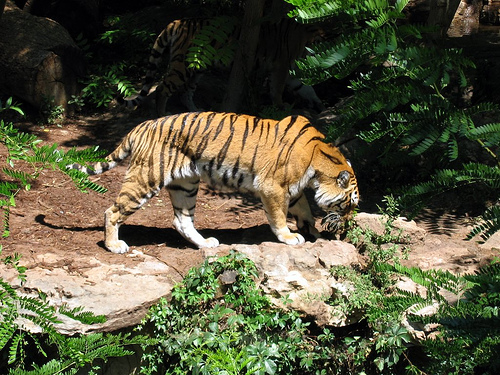Tigre: (87, 119, 376, 265)
